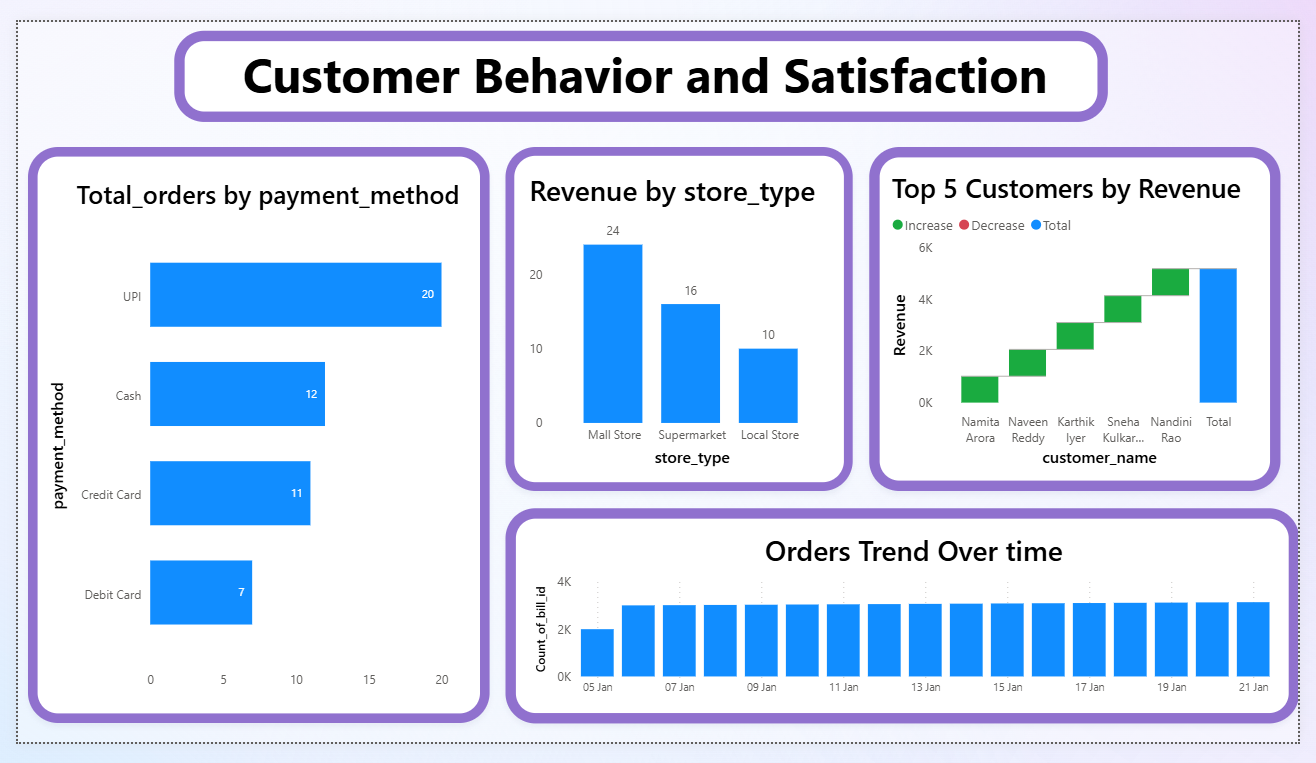

Layout of this report page (visuals, bound fields, positions):
{"tool":"powerbi","page":{"name":"customer Behavior and Satisfaction","canvas":[1280,720],"ordinal":1},"visuals":[{"type":"clusteredBarChart","fields":{"Category":["Indian Retail Store.payment_method"],"Y":["CountNonNull(Indian Retail Store.bill_id)"]},"box":[10,125,461.2,576.2],"z":0},{"type":"columnChart","fields":{"Category":["Indian Retail Store.store_type"],"Y":["CountNonNull(Indian Retail Store.bill_id)"]},"box":[487.5,125,347.5,343.8],"z":1000},{"type":"textbox","box":[156.2,8.8,933.8,91.2],"z":2000},{"type":"lineChart","title":"Orders Trend Over time","fields":{"Category":["Indian Retail Store.visit_date"],"Y":["Sum(Indian Retail Store.bill_id)"]},"box":[487.5,491.2,783.8,210],"z":3000},{"type":"waterfallChart","title":"Top 5 Customers by Revenue","fields":{"Category":["Indian Retail Store.customer_name","Indian Retail Store.city"],"Y":["Sum(Indian Retail Store.bill_id)"]},"box":[851.2,125,411.2,343.8],"z":4000}]}

Visuals, with their boxes in screenshot pixels (x1, y1, x2, y2), scaled from the page's 1280x720 canvas onto the 1316x763 screenshot:
clusteredBarChart - Indian Retail Store.payment_method x CountNonNull(Indian Retail Store.bill_id): 10/132/484/743
columnChart - Indian Retail Store.store_type x CountNonNull(Indian Retail Store.bill_id): 501/132/858/497
textbox: 161/9/1121/106
"Orders Trend Over time" lineChart: 501/521/1307/743
"Top 5 Customers by Revenue" waterfallChart: 875/132/1298/497
